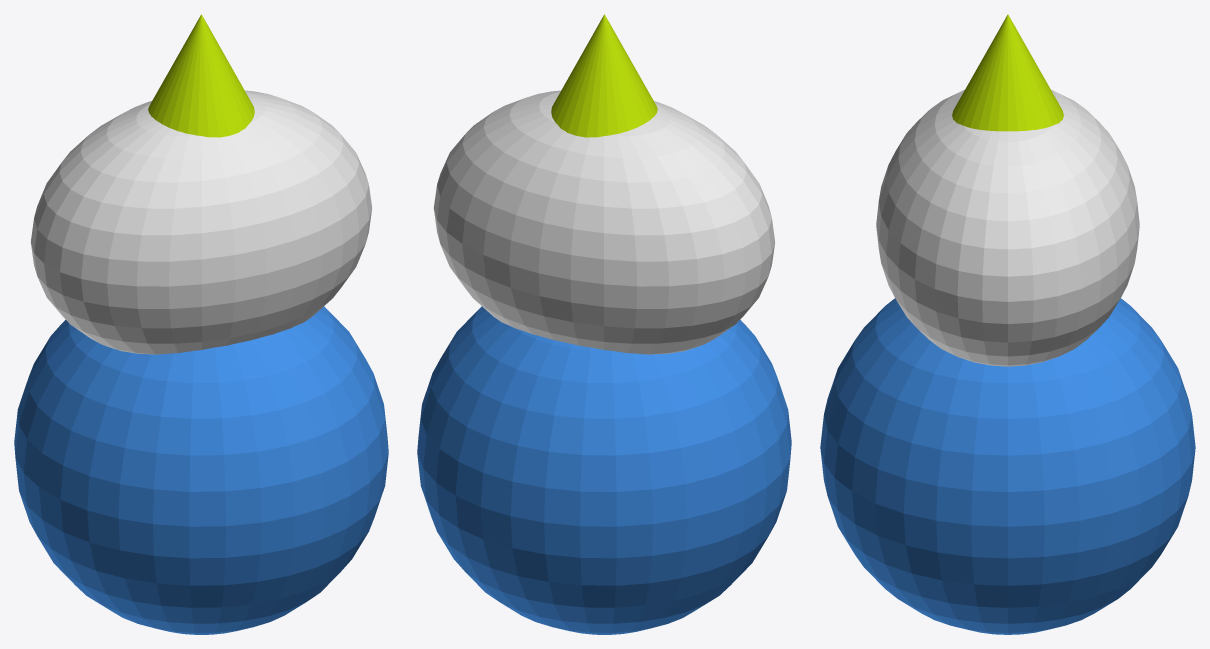
The model's file is snow_three.fbx.
3 renders of one model, left to right at view 1: azimuth 30°, elevation 25°; view 2: azimuth 150°, elevation 25°; view 3: azimuth 270°, elevation 25°, orthographic.
Visible parts, largest first — view 1: Sphere.001, Sphere.002, Cone; view 2: Sphere.001, Sphere.002, Cone; view 3: Sphere.001, Sphere.002, Cone.
Boxes of the visible parts, x1,y1,x2,y2 form: Sphere.001: (14, 306, 388, 634); Sphere.002: (30, 90, 372, 354); Cone: (148, 14, 254, 137); Sphere.001: (417, 306, 791, 634); Sphere.002: (433, 90, 775, 354); Cone: (551, 14, 657, 137); Sphere.001: (820, 298, 1195, 634); Sphere.002: (876, 89, 1139, 366); Cone: (952, 14, 1063, 131).
Size of the model in its own units: 3413 by 6056 by 3413.
